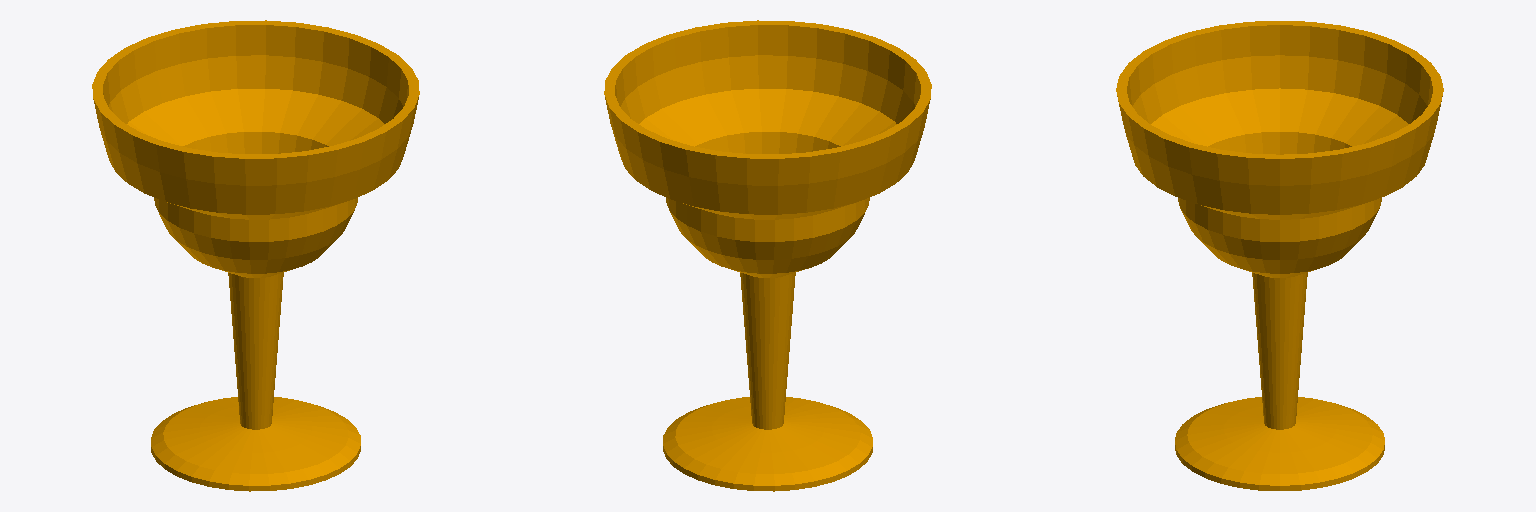
The robot description file, URDF, robot "margarita-glass.off":
<?xml version="1.0"?>
<robot name="margarita-glass.off">
	<link name="margarita-glass.off">
		<inertial>
			<!--origin xyz="0 0 0" rpy="0 0 0" /-->
			<mass value="0.5" />
			<!--inertia ixx="0.000360" ixy="0" ixz="0" iyy="0.0000615" iyz="0" izz="0.00036" /-->
		</inertial>
    		<visual>
	      		<!--origin rpy="0 0 0" xyz="0 0 0"/-->
      			<geometry>
        			<mesh filename="margarita-glass.off.obj"/>
      			</geometry>
         	</visual>
    		<collision>
      			<!--origin rpy="0 0 0" xyz="0 0 0"/-->
      			<geometry>
        			<mesh filename="margarita-glass.off.obj"/>
      			</geometry>
    		</collision>
	</link>
</robot>

--- Render facts (derived) ---
The picture shows the robot from 3 angles, left to right: view 1: azimuth 30°, elevation 25°; view 2: azimuth 150°, elevation 25°; view 3: azimuth 270°, elevation 25°; orthographic projection.
Model margarita-glass.off with 1 links and 0 joints (none), rooted at margarita-glass.off, posed every joint at zero.
Links seen in each view (by area): view 1: margarita-glass.off; view 2: margarita-glass.off; view 3: margarita-glass.off.
Link boxes in pixels (bbox=[...]): margarita-glass.off: bbox=[92, 20, 419, 491]; margarita-glass.off: bbox=[604, 20, 931, 491]; margarita-glass.off: bbox=[1116, 21, 1443, 490].
Size in the robot's own frame: 13.29 by 13.29 by 15.96 metres.
1 mesh visuals loaded from 1 distinct referenced files (1 OBJ).
